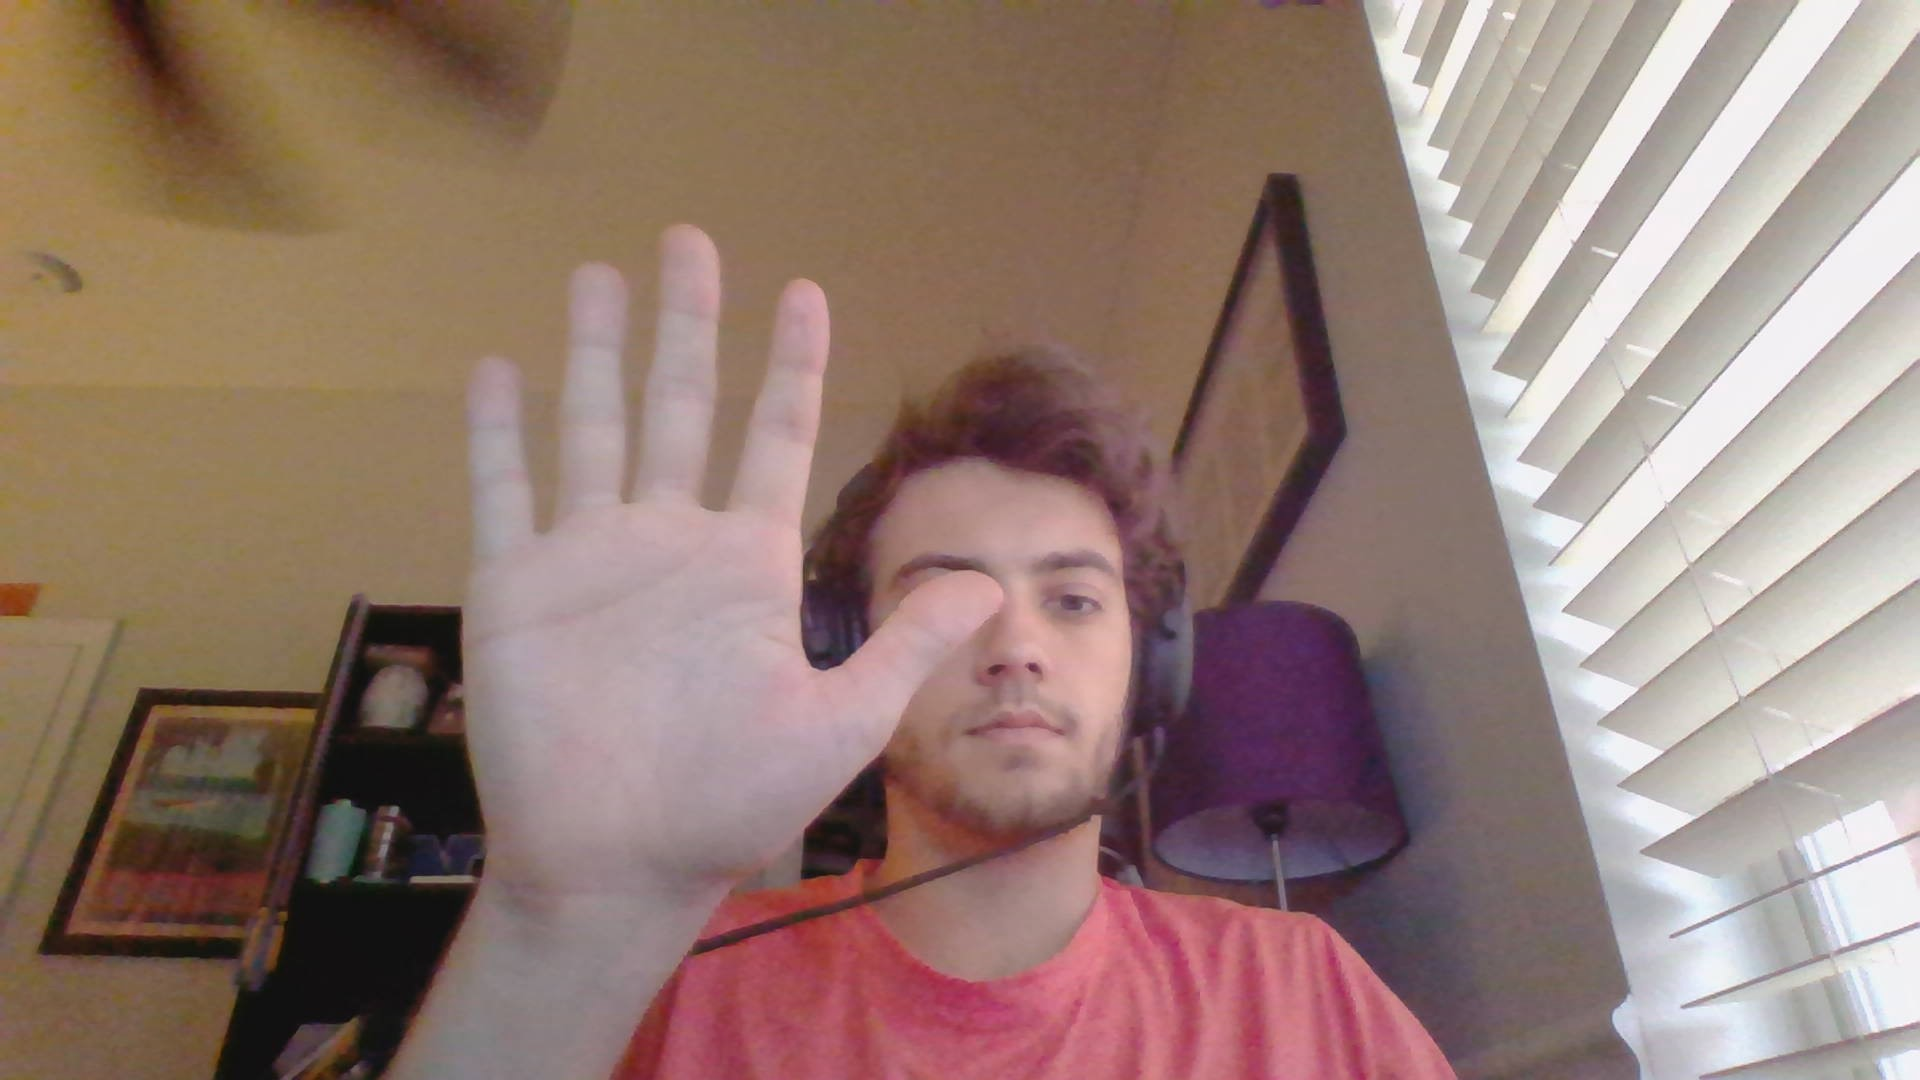Right Palm Up: (423, 218, 1007, 909)
